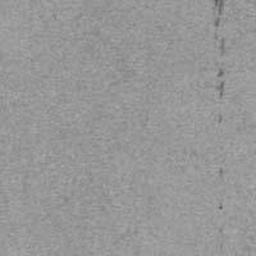Inclusion: (211, 0, 227, 56), (216, 68, 227, 99), (219, 166, 225, 175), (219, 202, 225, 211), (219, 227, 225, 234)
